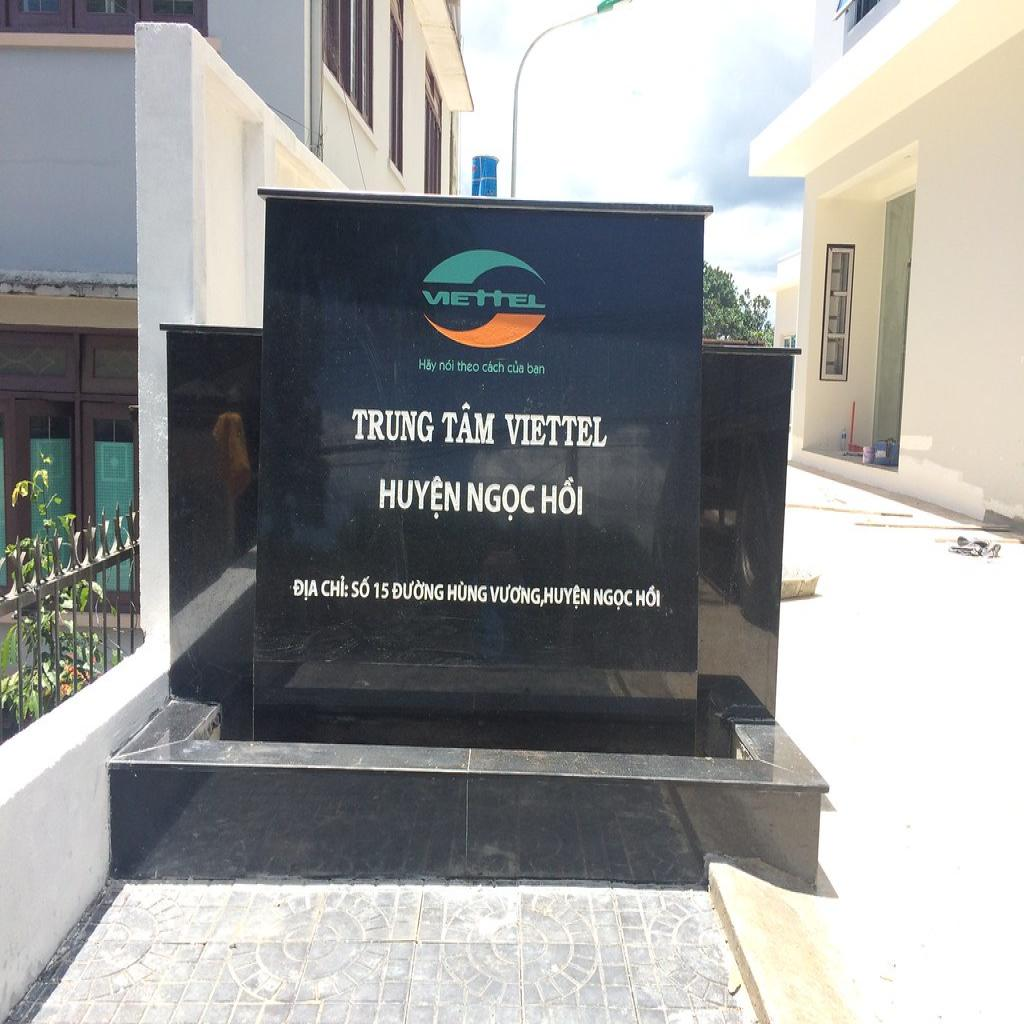text: (502, 405, 610, 452), (376, 472, 462, 524), (418, 282, 553, 314), (350, 402, 437, 450), (465, 476, 538, 529), (438, 401, 498, 451), (539, 475, 584, 520), (392, 577, 445, 604), (489, 583, 545, 608), (544, 582, 592, 610), (592, 584, 635, 612), (446, 580, 488, 605), (320, 572, 350, 603), (291, 577, 320, 603), (350, 574, 372, 602), (417, 352, 438, 375), (457, 358, 480, 378), (482, 359, 507, 377), (373, 578, 391, 602), (526, 359, 547, 377), (438, 357, 456, 375), (507, 359, 525, 377)
